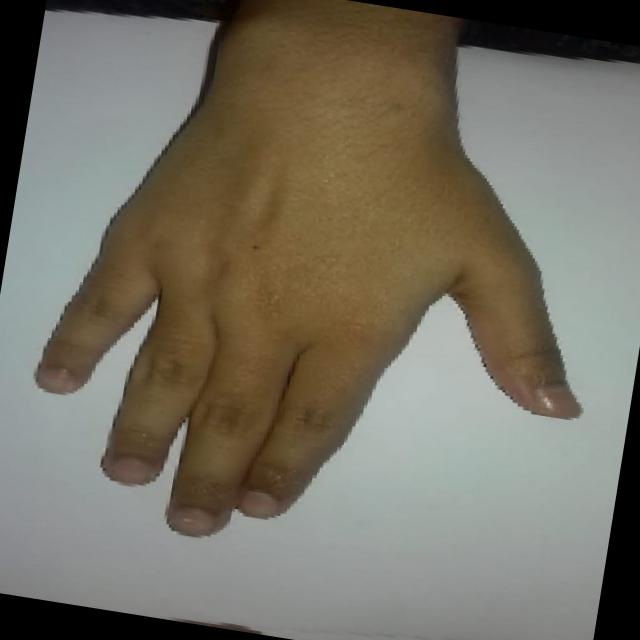Nail: (534, 386, 582, 418), (35, 362, 81, 394), (167, 506, 214, 537), (109, 458, 157, 486), (238, 490, 279, 518)
